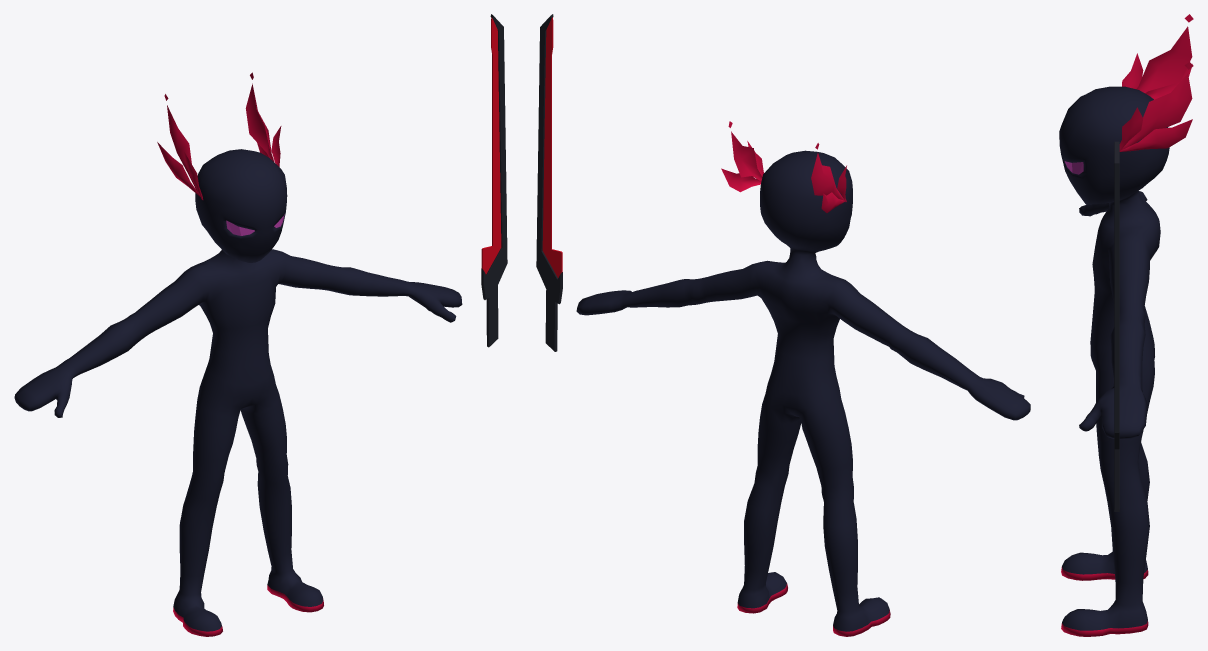
Rendered from red+sword_4.FBX.
The picture shows the model from 3 angles, left to right: view 1: azimuth 30°, elevation 25°; view 2: azimuth 150°, elevation 25°; view 3: azimuth 270°, elevation 25°; orthographic projection. The views are drawn at different scales.
Parts seen in each view (by area): view 1: RED, object_1, HeaddressObject002, object_2; view 2: RED, object_1, HeaddressObject002, object_2; view 3: RED, HeaddressObject002, object_1, Object001.
Part boxes in pixels (x1=…): RED: x1=14, y1=149, x2=462, y2=631; object_1: x1=481, y1=14, x2=507, y2=347; HeaddressObject002: x1=157, y1=72, x2=281, y2=199; object_2: x1=481, y1=17, x2=501, y2=274; RED: x1=576, y1=150, x2=1030, y2=631; object_1: x1=536, y1=14, x2=562, y2=351; HeaddressObject002: x1=721, y1=121, x2=846, y2=212; object_2: x1=542, y1=17, x2=562, y2=277; RED: x1=1059, y1=86, x2=1169, y2=630; HeaddressObject002: x1=1119, y1=14, x2=1193, y2=151; object_1: x1=1114, y1=141, x2=1119, y2=511; Object001: x1=1061, y1=567, x2=1148, y2=636.
Size of the model in its own units: 2567 by 2676 by 547.
